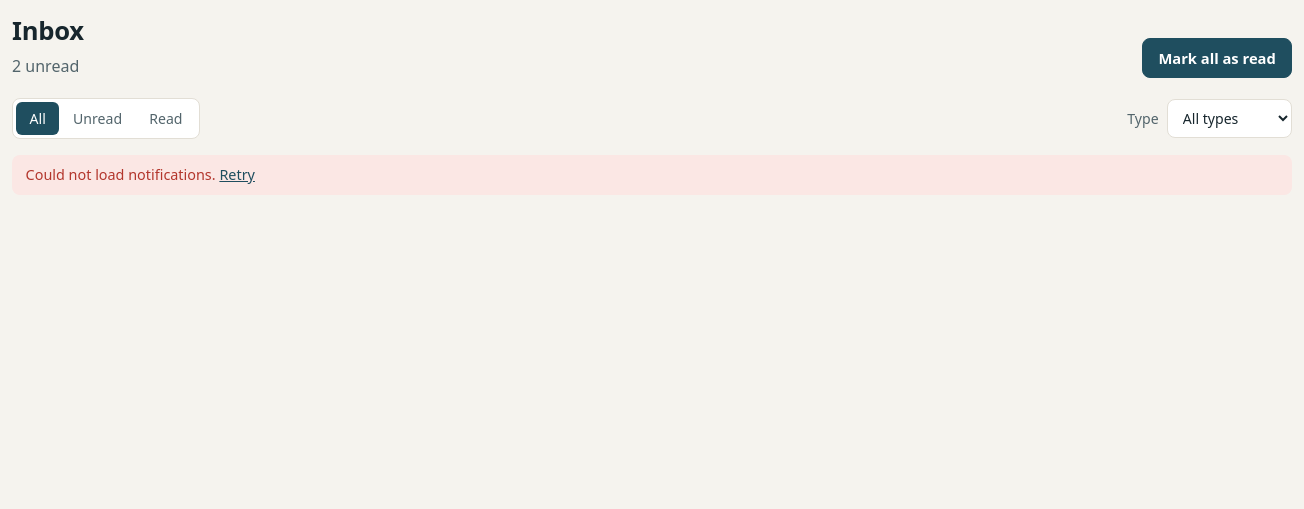
Test: NotificationsPage › shows an error and lets the user retry
The width and height of the screenshot is (1304, 509).
Check: the message shows "Could not load notifications.", box [26,165,216,184]
Step 1. Click the button "Retry" → [237, 175], box [219,164,255,186]
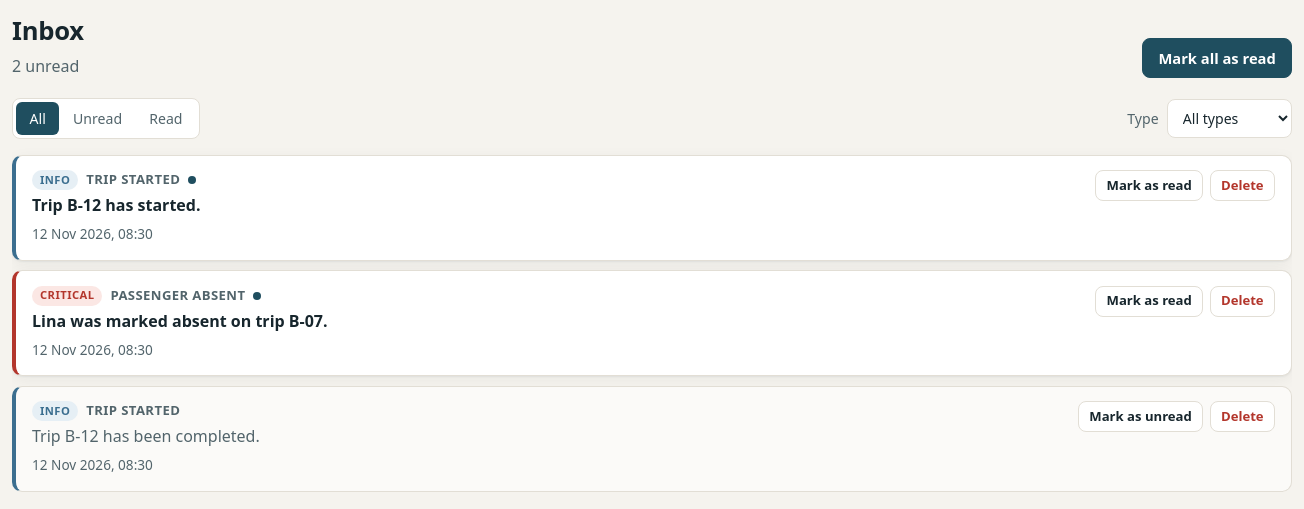
Check: the text "Trip B-12 has started." is shown, box [32,193,200,217]
